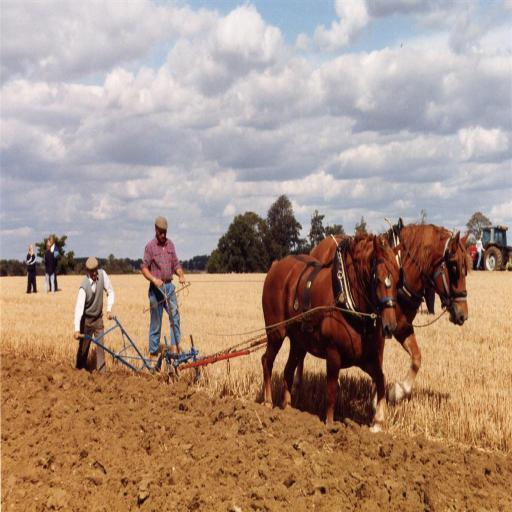horse: (290, 218, 470, 416), (260, 233, 404, 431)
